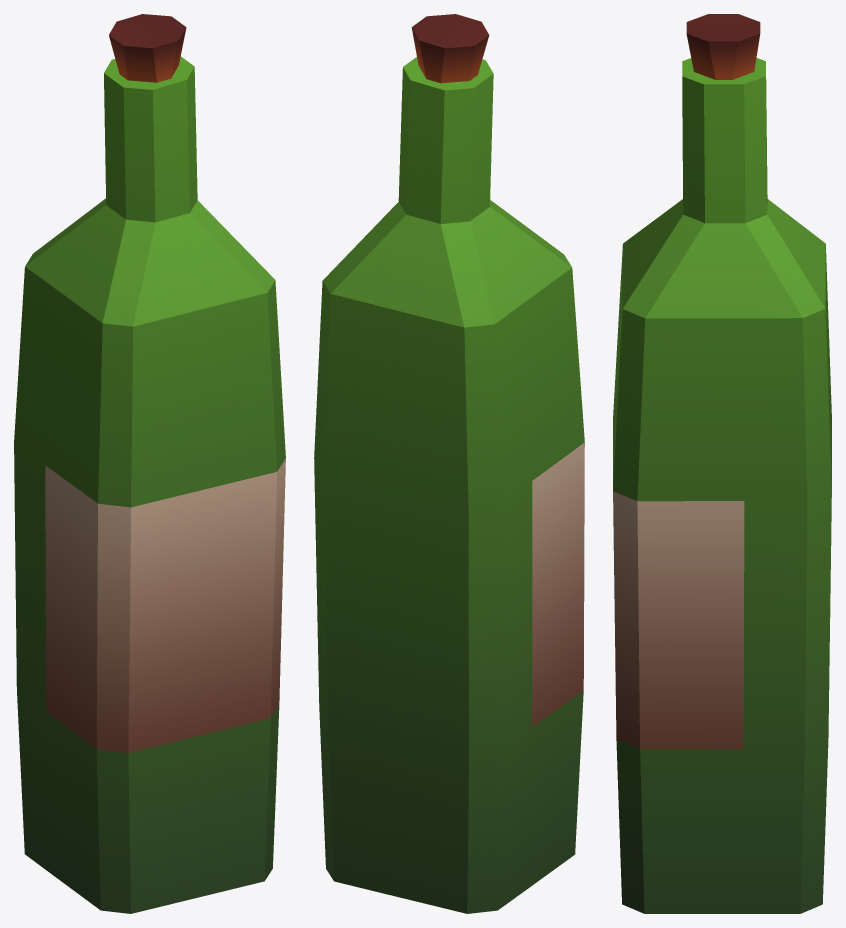
The model's file is M_bottle.fbx.
3 renders of one model, left to right at view 1: azimuth 30°, elevation 25°; view 2: azimuth 150°, elevation 25°; view 3: azimuth 270°, elevation 25°, orthographic.
Visible parts, largest first — view 1: bottle; view 2: bottle; view 3: bottle.
Part boxes in pixels (left/top/right/bottom): bottle: left=14, top=14, right=285, bottom=913; bottle: left=314, top=14, right=584, bottom=913; bottle: left=613, top=14, right=831, bottom=913.
Bounding box in the file's own units: 22.71 × 95.93 × 22.53.
